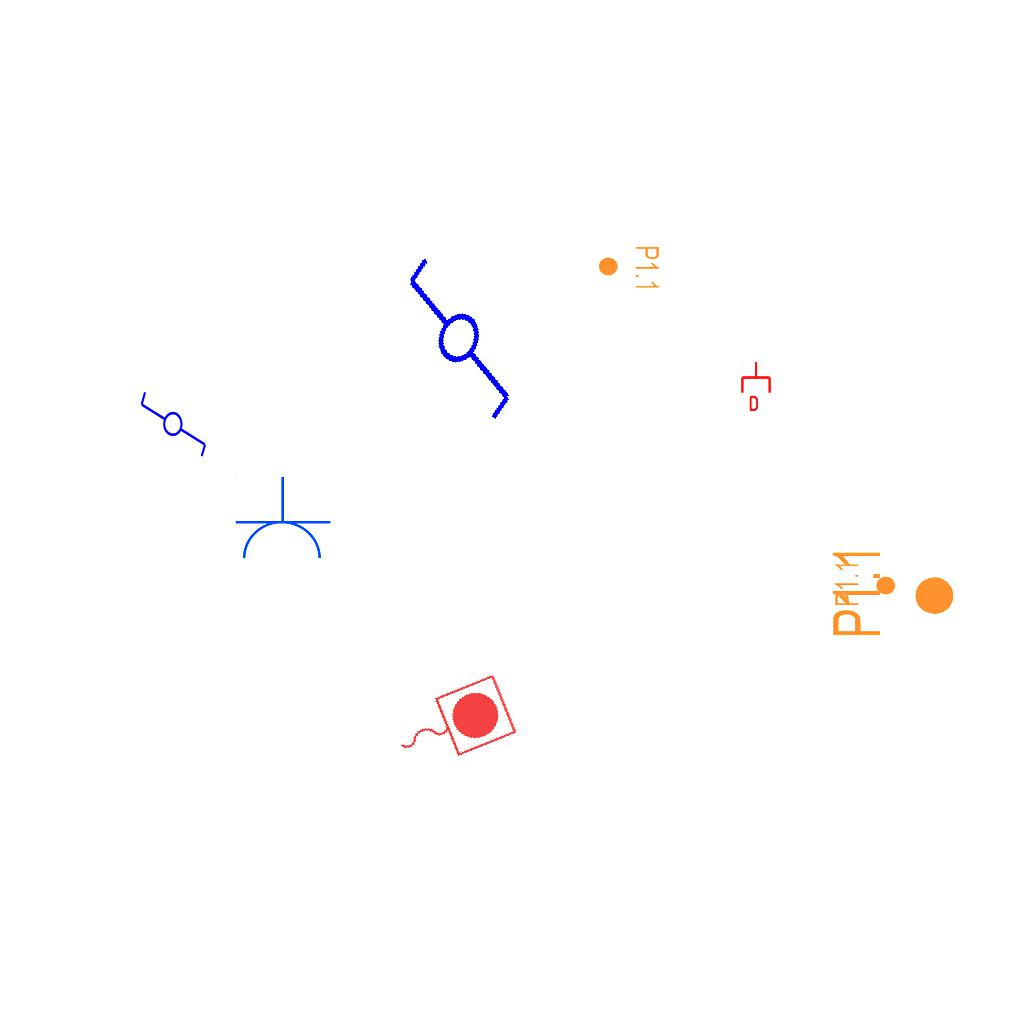Datenanschluss_einfach: (739, 361, 773, 411)
Downlight_LED_Einbauleuchten_Flur: (829, 546, 957, 639), (597, 245, 661, 291), (833, 561, 897, 607)
Schukosteckdose_einfach: (232, 476, 332, 563)
Wechselschalter: (370, 234, 557, 428), (138, 381, 210, 459)
Zugtaster: (381, 667, 523, 781)
